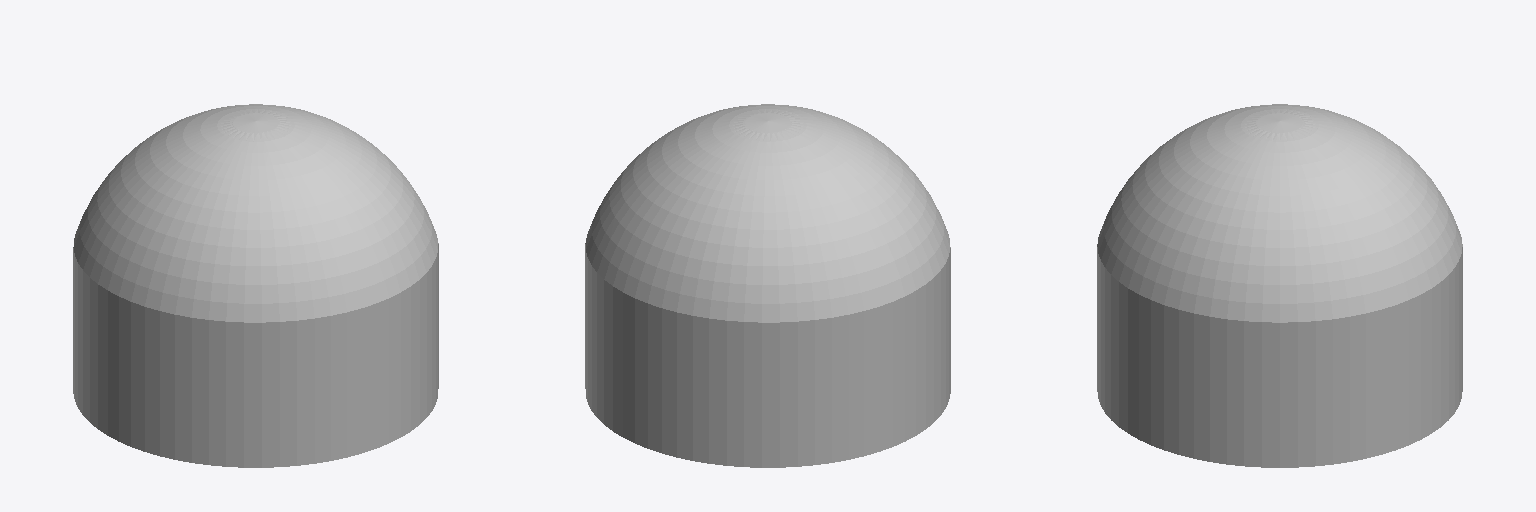
The model's file is Hemisphere.obj.
The picture shows the model from 3 angles: view 1: azimuth 30°, elevation 25°; view 2: azimuth 150°, elevation 25°; view 3: azimuth 270°, elevation 25°; orthographic projection.
Parts seen in each view (by area): view 1: Sphere; view 2: Sphere; view 3: Sphere.
Part boxes in pixels (x1,y1,x2,y2): Sphere: (73, 104, 438, 467); Sphere: (585, 104, 950, 467); Sphere: (1097, 104, 1462, 467).
Bounding box in the file's own units: 1.89 × 1.54 × 1.89.